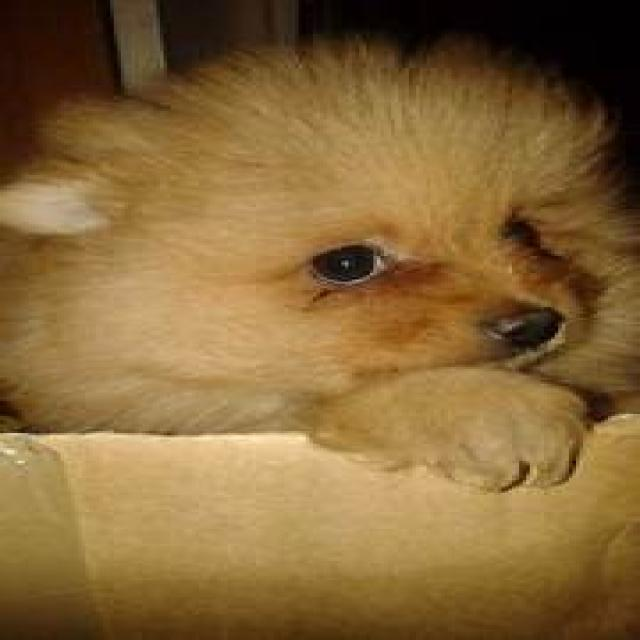animal: (0, 30, 636, 493)
